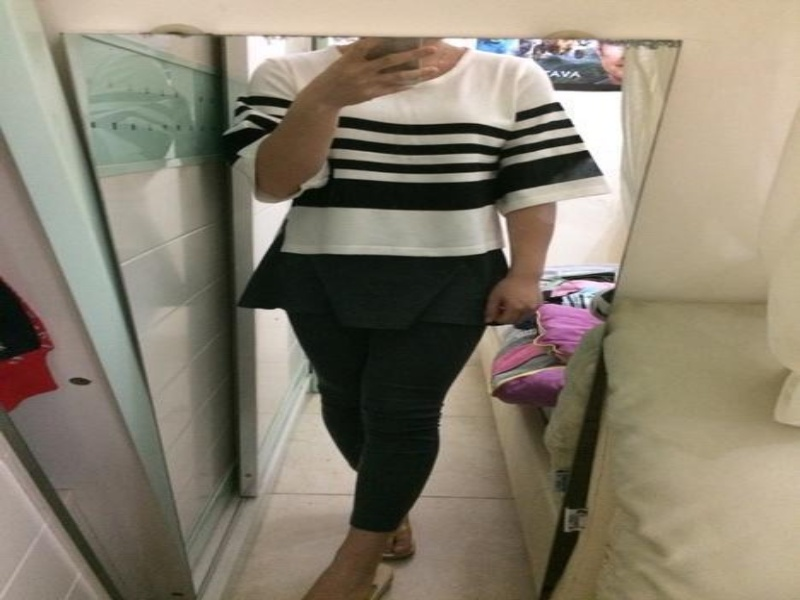long_sleeved_shirt: (217, 43, 610, 262)
skirt: (229, 209, 538, 332)
trousers: (270, 237, 516, 534)
